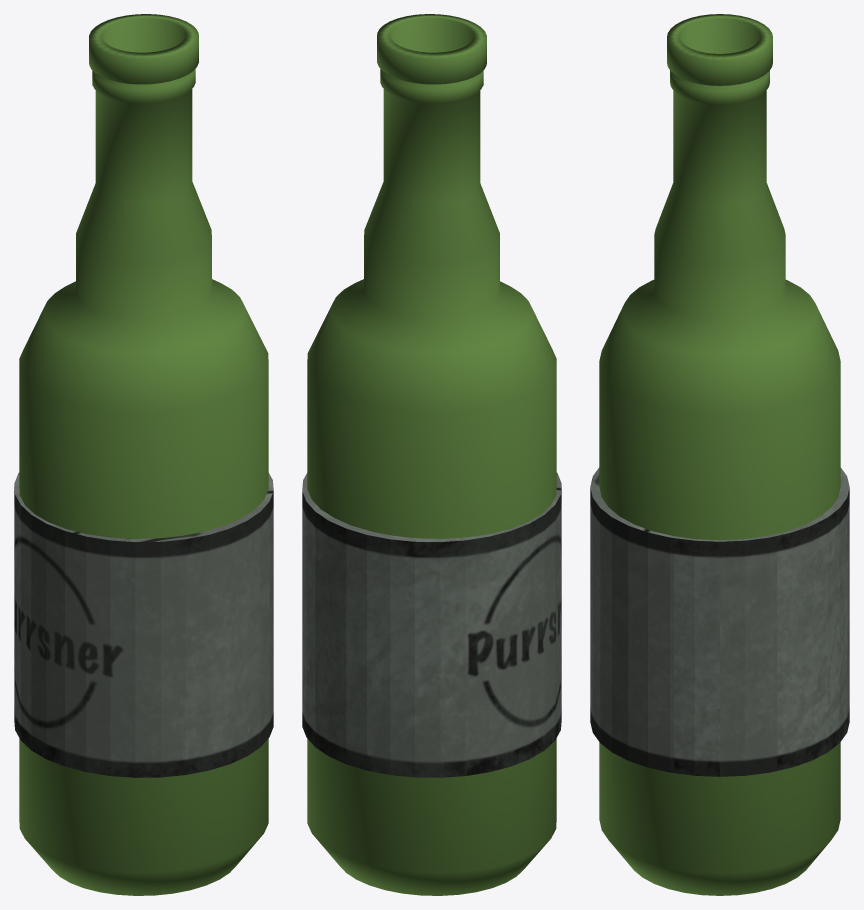
The model's file is JuiceBottle.glb.
3 renders of one model, left to right at view 1: azimuth 30°, elevation 25°; view 2: azimuth 150°, elevation 25°; view 3: azimuth 270°, elevation 25°, orthographic.
Visible parts, largest first — view 1: Cylinder.099, Cylinder.090; view 2: Cylinder.099, Cylinder.090; view 3: Cylinder.099, Cylinder.090.
Part boxes in pixels (<box>): Cylinder.099: <box>19,14,268,895</box>; Cylinder.090: <box>14,472,273,777</box>; Cylinder.099: <box>307,14,556,895</box>; Cylinder.090: <box>302,472,561,777</box>; Cylinder.099: <box>599,14,840,895</box>; Cylinder.090: <box>590,467,849,776</box>.
Size of the model in its own units: 0.1238 by 0.4311 by 0.1238.
Materials: 2 (1 with a texture image).
